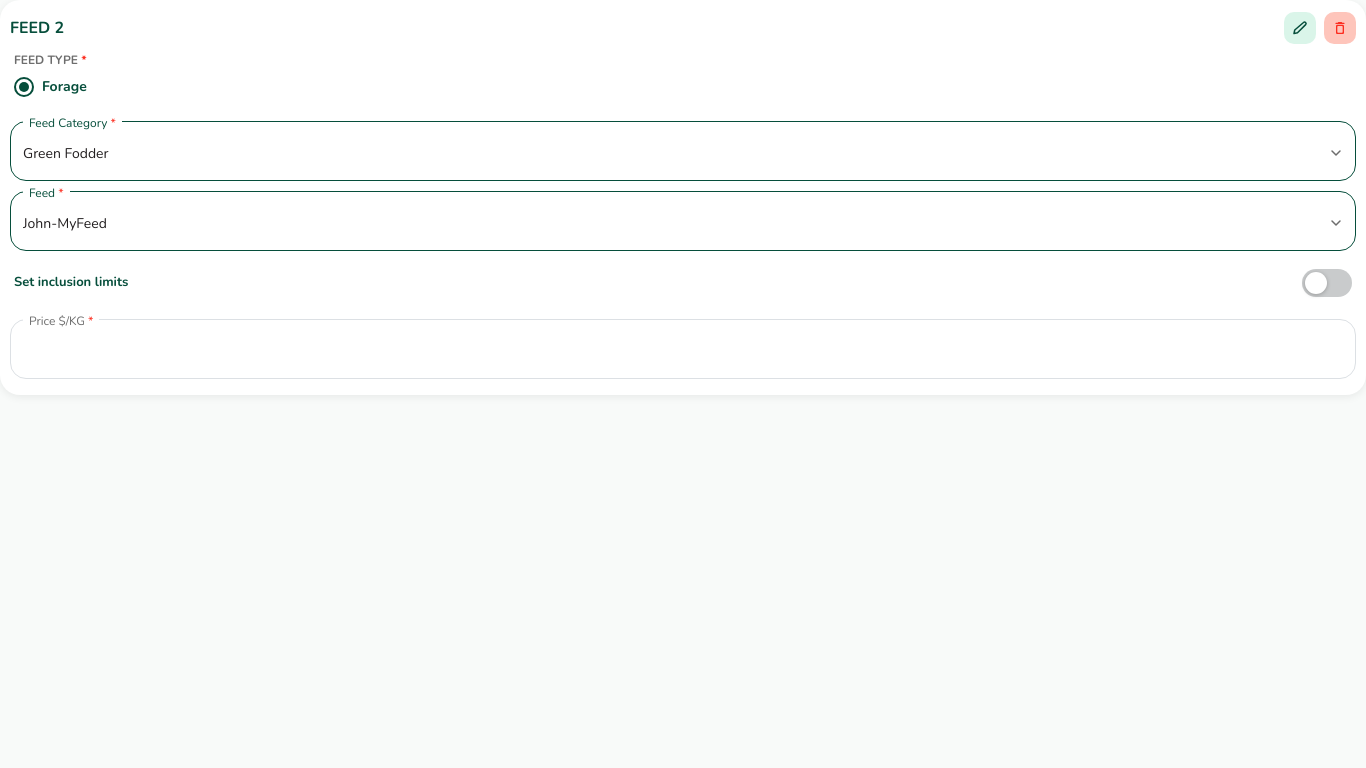
Test: edit dialog — update path › calls updateCustomFeed; Feed Name input is disabled so the stored name survives unchanged
This screenshot has width=1366, height=768.
Later steps or results of the test are not shown.
Expected: the button "John-MyFeed" is shown, [23,212,1343,234]
Click the button named "Edit feed nutritional values" at (1300, 28), box [1284,12,1316,44]
(page scrolled)
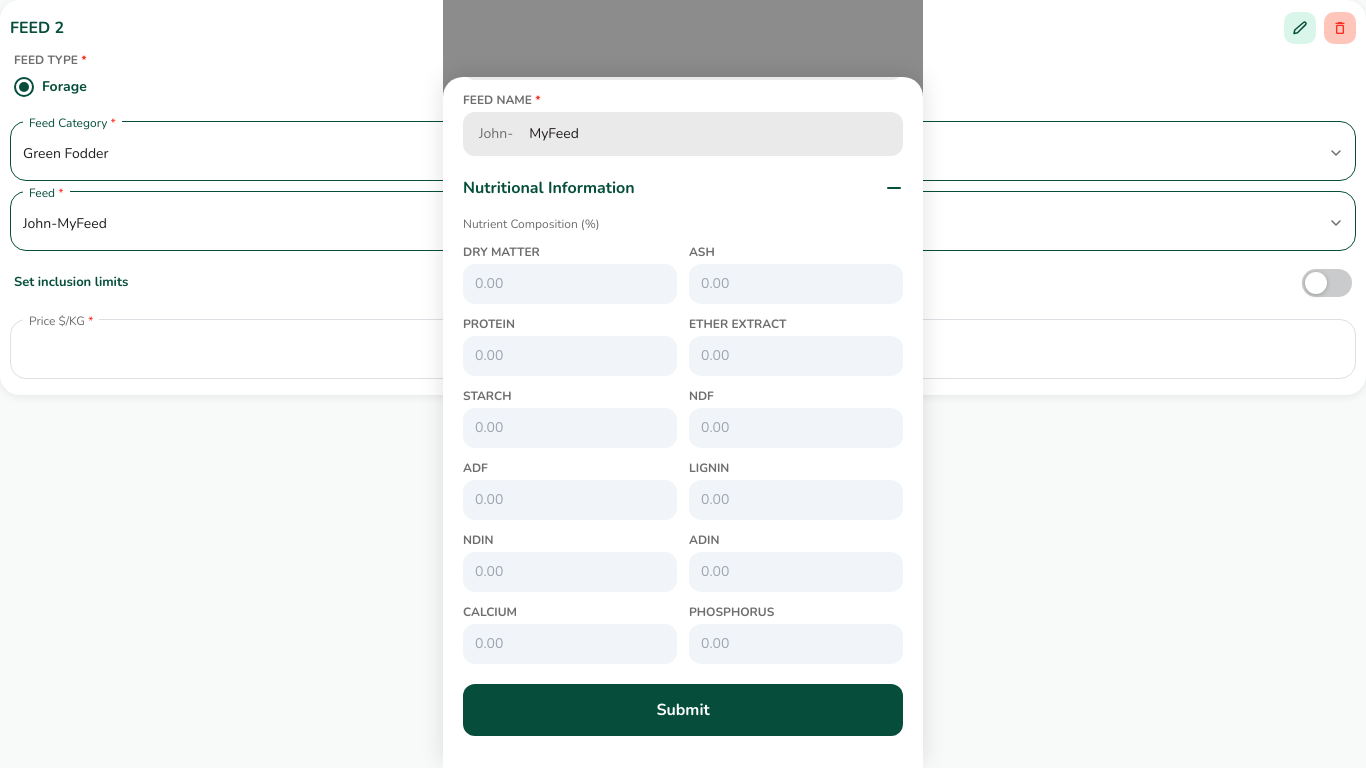
Result: the field named "Feed Name" is disabled at [517,112,903,156]
Result: the field named "Feed Name" holds "MyFeed" at [517,112,903,156]
